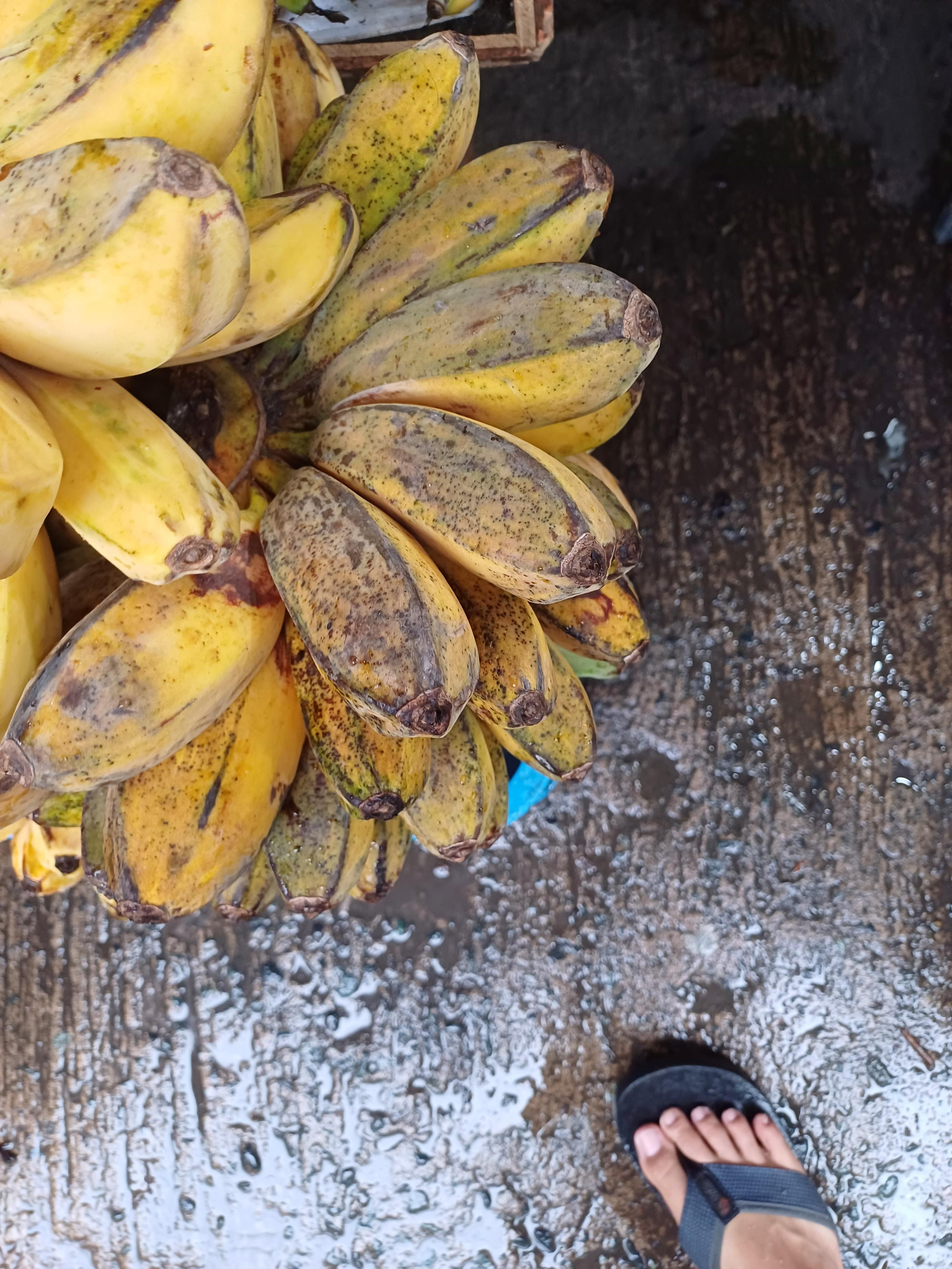ripe: (0, 20, 665, 923), (0, 0, 361, 750)
